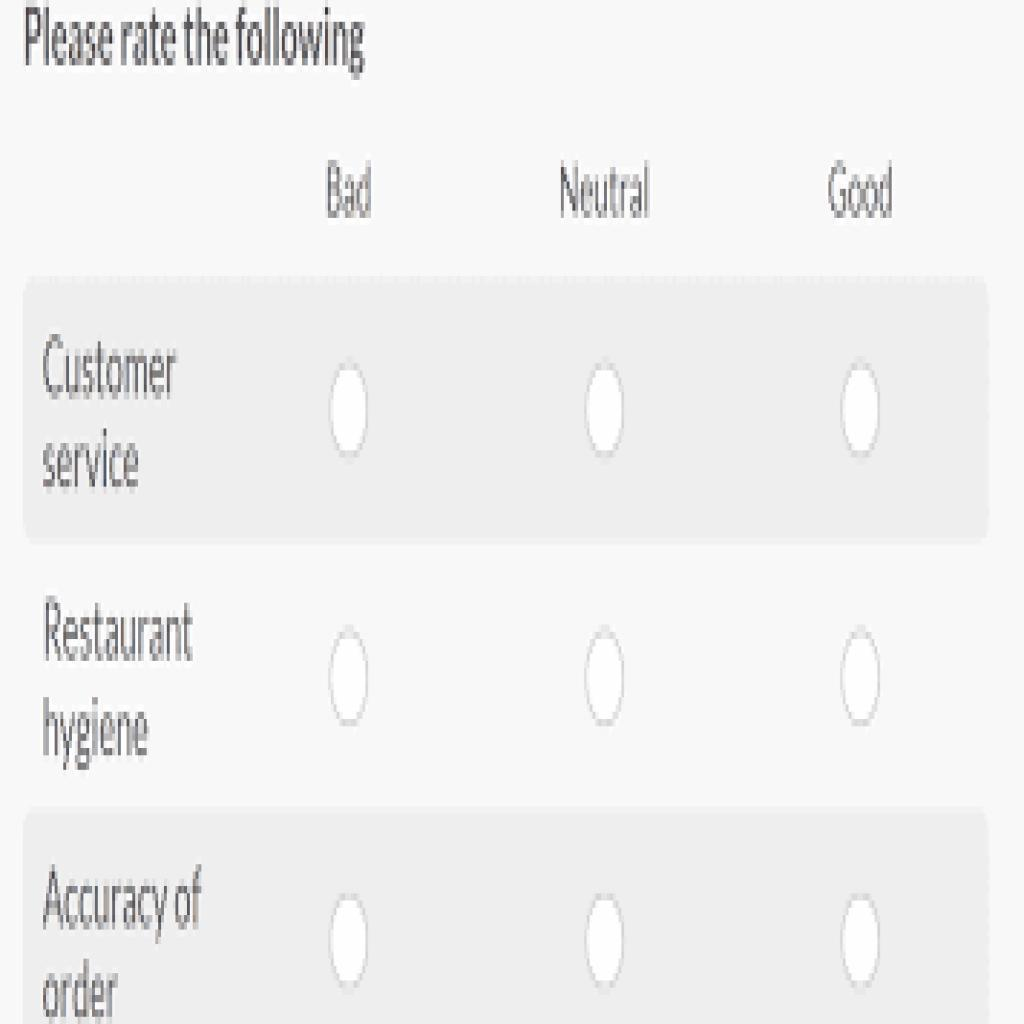label: (39, 593, 196, 773), (36, 864, 208, 1022), (36, 330, 194, 501), (22, 1, 380, 76), (560, 163, 653, 222), (823, 153, 897, 222), (320, 160, 376, 219)
radio: (577, 624, 630, 729), (834, 357, 884, 464), (326, 624, 373, 731), (580, 361, 630, 459), (837, 890, 885, 990), (326, 891, 372, 993), (839, 621, 882, 729), (326, 359, 371, 460), (584, 890, 625, 992)
